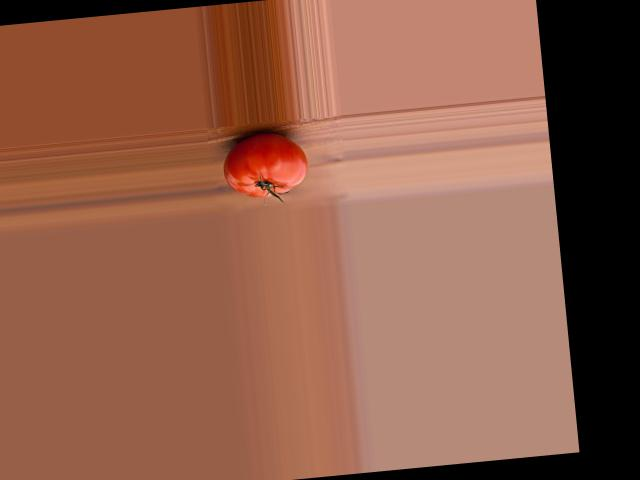tomato: (221, 129, 311, 200)
